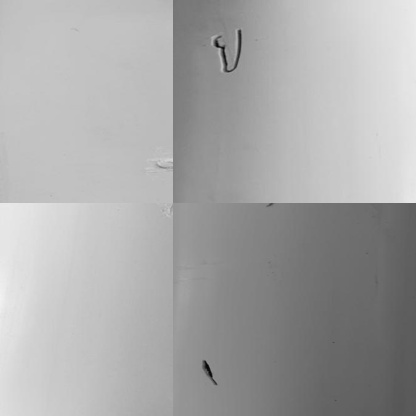fengxi: (203, 23, 250, 76)
kongdong: (198, 357, 217, 387)
sunshang: (152, 158, 174, 174)
